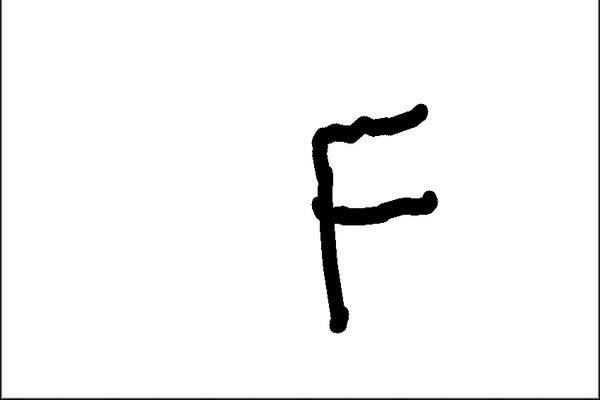F: (305, 100, 440, 336)
